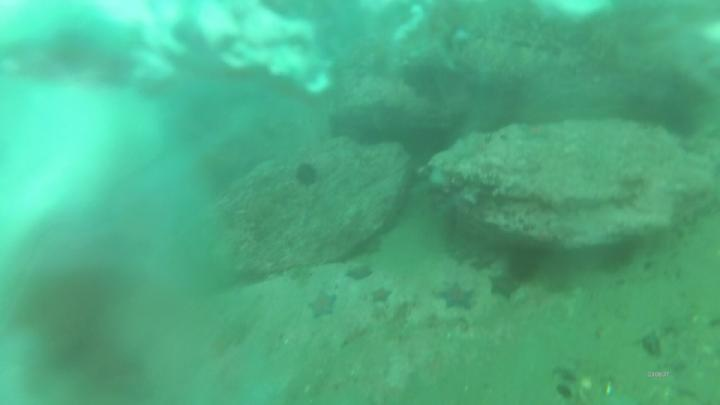echinus: (295, 164, 321, 188)
starfish: (439, 282, 475, 312), (306, 290, 339, 320), (488, 271, 521, 298), (344, 263, 374, 282), (373, 288, 393, 304)
